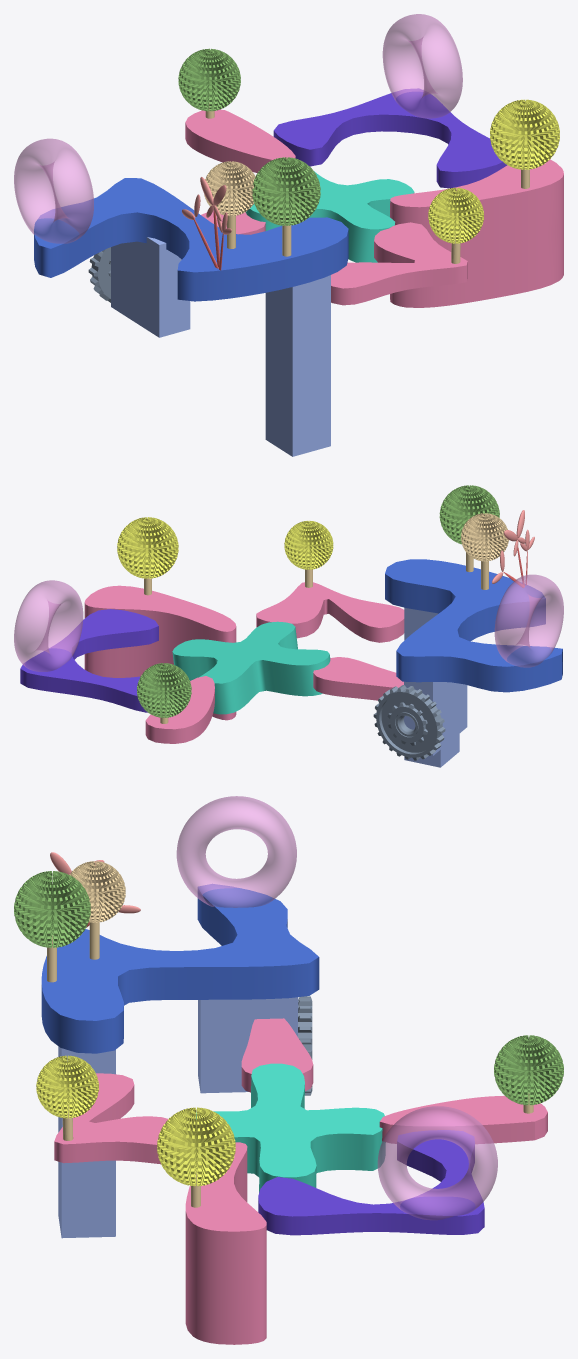
3 views of the same model, one above another, from view 1: azimuth 30°, elevation 25°; view 2: azimuth 150°, elevation 25°; view 3: azimuth 270°, elevation 25° (orthographic). The views are drawn at different scales.
Visible parts, largest first — view 1: 物件_8.002, 物件_4.005, 物件_9.003, 物件_1.005, 物件_2.003, 物件_2.004, 物件_5.005, 物件_11.004, 物件_7.003, 物件_3.003, 球体.088, 球体.086 (+5 smaller); view 2: 物件_8.002, 物件_7.003, 物件_4.005, 物件_1.005, 物件_2.003, 物件_2.004, 物件_5.005, gear34_gears_0.001, 球体.088, 物件_6.005, 物件_3.003, 球体.087 (+5 smaller); view 3: 物件_8.002, 物件_1.005, 物件_4.005, 物件_7.003, 物件_2.004, 物件_2.003, 物件_5.005, 物件_11.004, 物件_3.003, 物件_9.003, 球体.088, 球体.086 (+5 smaller).
Boxes of the visible parts, <box> form: 物件_8.002: <box>34,178,348,301</box>; 物件_4.005: <box>390,159,563,307</box>; 物件_9.003: <box>265,275,330,456</box>; 物件_1.005: <box>273,88,506,188</box>; 物件_2.003: <box>14,138,93,243</box>; 物件_2.004: <box>382,14,462,118</box>; 物件_5.005: <box>331,222,467,305</box>; 物件_11.004: <box>111,237,190,337</box>; 物件_7.003: <box>246,171,414,262</box>; 物件_3.003: <box>185,109,295,172</box>; 球体.088: <box>490,99,559,169</box>; 球体.086: <box>252,157,320,225</box>; 物件_8.002: <box>385,559,562,692</box>; 物件_7.003: <box>172,621,330,714</box>; 物件_4.005: <box>84,585,236,720</box>; 物件_1.005: <box>20,609,158,712</box>; 物件_2.003: <box>494,574,563,667</box>; 物件_2.004: <box>14,580,83,671</box>; 物件_5.005: <box>256,582,404,642</box>; gear34_gears_0.001: <box>373,685,445,760</box>; 球体.088: <box>117,517,178,578</box>; 物件_6.005: <box>313,657,403,700</box>; 物件_3.003: <box>145,676,214,743</box>; 球体.087: <box>137,663,191,717</box>; 物件_8.002: <box>41,884,319,1053</box>; 物件_1.005: <box>258,1130,484,1235</box>; 物件_4.005: <box>185,1142,266,1344</box>; 物件_7.003: <box>196,1063,385,1192</box>; 物件_2.004: <box>377,1106,497,1219</box>; 物件_2.003: <box>176,796,296,907</box>; 物件_5.005: <box>54,1073,168,1164</box>; 物件_11.004: <box>198,997,298,1093</box>; 物件_3.003: <box>379,1095,547,1143</box>; 物件_9.003: <box>58,1046,115,1238</box>; 球体.088: <box>157,1107,235,1186</box>; 球体.086: <box>14,871,90,947</box>.
Size of the model in its own units: 3180 by 1733 by 2563.
